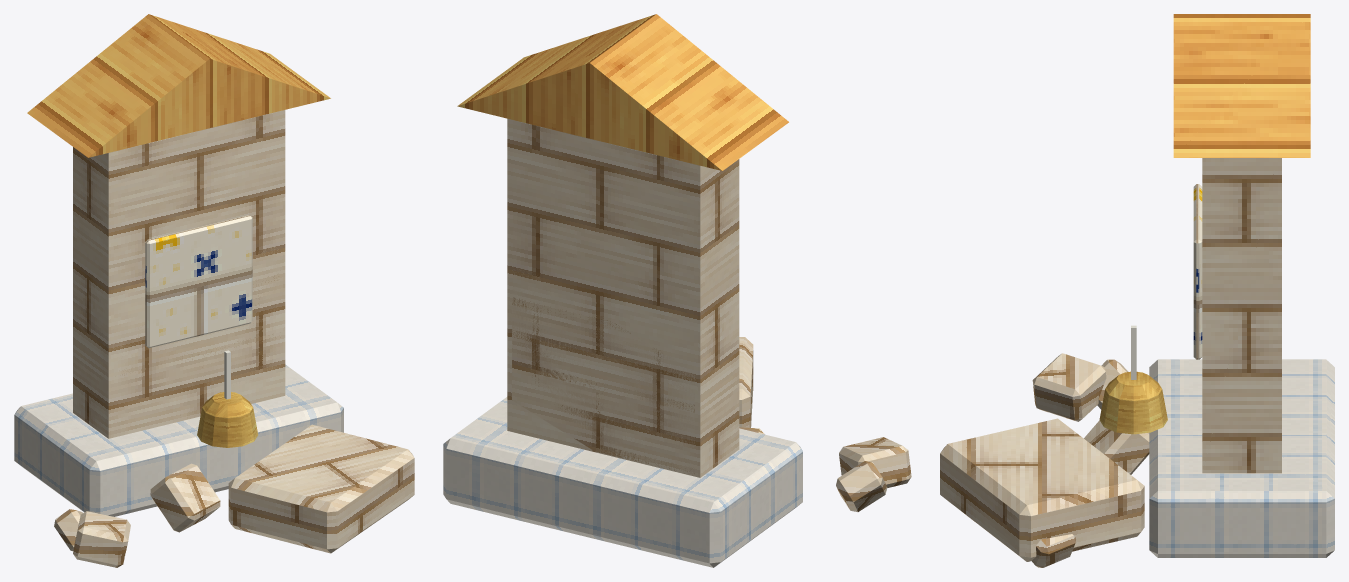
Rendered from tower_grave_b.glb.
3 views of the same model, side by side, from view 1: azimuth 30°, elevation 25°; view 2: azimuth 150°, elevation 25°; view 3: azimuth 270°, elevation 25° (orthographic). The views are drawn at different scales.
Parts seen in each view (by area): view 1: Column, Stub; view 2: Column, Stub; view 3: Column, Stub.
Part boxes in pixels (box(x1,y1,x2,y2)): Column: box(14, 14, 343, 516); Stub: box(54, 243, 414, 567); Column: box(443, 14, 802, 567); Stub: box(512, 260, 911, 511); Column: box(1099, 14, 1334, 557); Stub: box(940, 353, 1149, 567).
Size of the model in its own units: 1.47 by 1.89 by 1.38.
6 materials, 5 textured.
